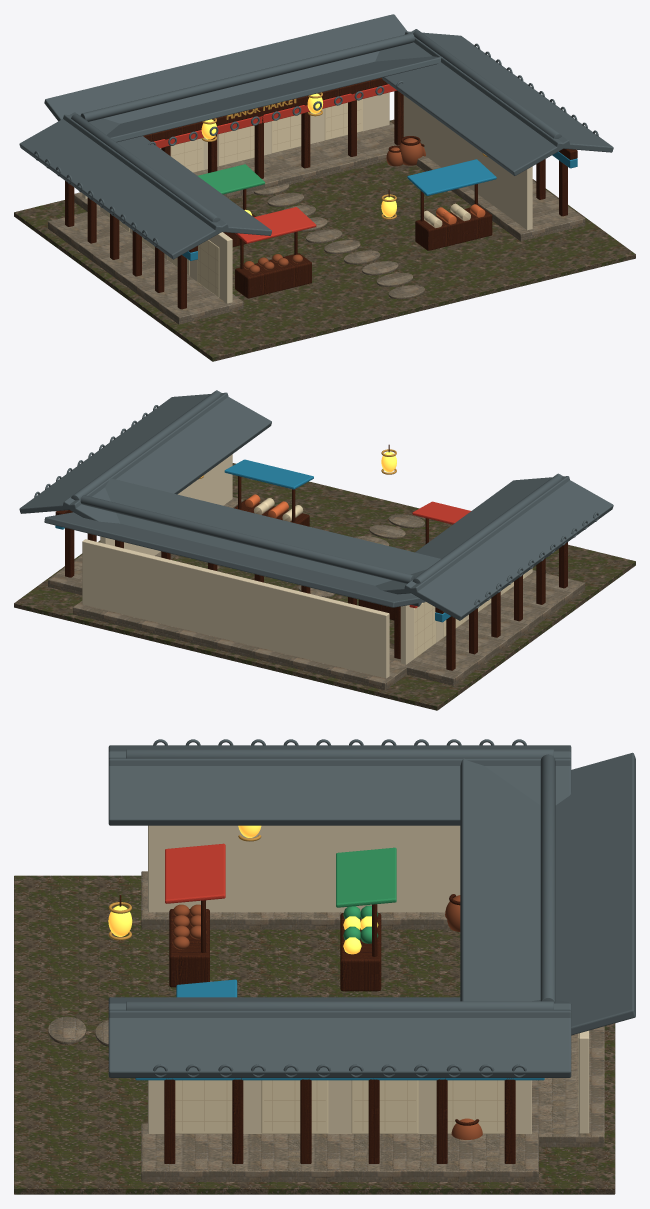
The model's file is hanok_market_courtyard.glb.
3 renders of one model, top to bottom at view 1: azimuth 30°, elevation 25°; view 2: azimuth 150°, elevation 25°; view 3: azimuth 270°, elevation 25°, orthographic. The views are drawn at different scales.
Parts seen in each view (by area): view 1: RefinedSurface_Hanok_CharcoalRoofTile, HanokMarket_Courtyard, RefinedSurface_Hanok_FoundationStone, RefinedSurface_Hanok_WarmTimber, RefinedSurface_Hanok_OchrePlaster, RefinedSurface_Hanok_HanjiPaper, RefinedSurface_Hanok_DancheongRed, RefinedSurface_Hanok_DarkTimber, RefinedSurface_Hanok_DancheongBlue, RefinedSurface_Hanok_Onggi, RefinedSurface_Hanok_DancheongGreen, RefinedSurface_Hanok_LanternGlow (+1 smaller); view 2: RefinedSurface_Hanok_CharcoalRoofTile, RefinedSurface_Hanok_OchrePlaster, HanokMarket_Courtyard, RefinedSurface_Hanok_FoundationStone, RefinedSurface_Hanok_WarmTimber, RefinedSurface_Hanok_HanjiPaper, RefinedSurface_Hanok_DancheongBlue, RefinedSurface_Hanok_DancheongRed, RefinedSurface_Hanok_DarkTimber; view 3: RefinedSurface_Hanok_CharcoalRoofTile, HanokMarket_Courtyard, RefinedSurface_Hanok_FoundationStone, RefinedSurface_Hanok_OchrePlaster, RefinedSurface_Hanok_HanjiPaper, RefinedSurface_Hanok_WarmTimber, RefinedSurface_Hanok_DancheongGreen, RefinedSurface_Hanok_DancheongRed, RefinedSurface_Hanok_DancheongBlue, RefinedSurface_Hanok_Onggi, RefinedSurface_Hanok_LanternGlow, RefinedSurface_Hanok_DarkTimber.
Boxes of the visible parts, bbox=[...] form: RefinedSurface_Hanok_CharcoalRoofTile: bbox=[19, 14, 613, 259]; HanokMarket_Courtyard: bbox=[14, 119, 635, 361]; RefinedSurface_Hanok_FoundationStone: bbox=[48, 121, 585, 324]; RefinedSurface_Hanok_WarmTimber: bbox=[65, 90, 567, 309]; RefinedSurface_Hanok_OchrePlaster: bbox=[82, 92, 532, 303]; RefinedSurface_Hanok_HanjiPaper: bbox=[107, 99, 470, 297]; RefinedSurface_Hanok_DancheongRed: bbox=[154, 84, 396, 243]; RefinedSurface_Hanok_DarkTimber: bbox=[143, 77, 577, 268]; RefinedSurface_Hanok_DancheongBlue: bbox=[182, 151, 577, 260]; RefinedSurface_Hanok_Onggi: bbox=[243, 138, 425, 273]; RefinedSurface_Hanok_DancheongGreen: bbox=[197, 164, 265, 194]; RefinedSurface_Hanok_LanternGlow: bbox=[201, 93, 396, 217]; RefinedSurface_Hanok_CharcoalRoofTile: bbox=[19, 390, 613, 620]; RefinedSurface_Hanok_OchrePlaster: bbox=[82, 454, 532, 678]; HanokMarket_Courtyard: bbox=[14, 463, 635, 710]; RefinedSurface_Hanok_FoundationStone: bbox=[48, 497, 585, 690]; RefinedSurface_Hanok_WarmTimber: bbox=[65, 499, 567, 670]; RefinedSurface_Hanok_HanjiPaper: bbox=[254, 498, 525, 658]; RefinedSurface_Hanok_DancheongBlue: bbox=[55, 459, 450, 622]; RefinedSurface_Hanok_DancheongRed: bbox=[409, 501, 470, 608]; RefinedSurface_Hanok_DarkTimber: bbox=[55, 444, 444, 613]; RefinedSurface_Hanok_CharcoalRoofTile: bbox=[108, 739, 635, 1077]; HanokMarket_Courtyard: bbox=[14, 875, 615, 1194]; RefinedSurface_Hanok_FoundationStone: bbox=[48, 871, 604, 1181]; RefinedSurface_Hanok_OchrePlaster: bbox=[148, 825, 589, 1133]; RefinedSurface_Hanok_HanjiPaper: bbox=[175, 1033, 578, 1133]; RefinedSurface_Hanok_WarmTimber: bbox=[164, 909, 515, 1163]; RefinedSurface_Hanok_DancheongGreen: bbox=[336, 847, 396, 943]; RefinedSurface_Hanok_DancheongRed: bbox=[165, 843, 225, 903]; RefinedSurface_Hanok_DancheongBlue: bbox=[135, 979, 544, 1080]; RefinedSurface_Hanok_Onggi: bbox=[173, 895, 482, 1139]; RefinedSurface_Hanok_LanternGlow: bbox=[108, 825, 378, 954]; RefinedSurface_Hanok_DarkTimber: bbox=[119, 894, 479, 1125].
Bounding box in the file's own units: 16.7 × 3.9 × 13.45.
14 materials, 4 textured.
